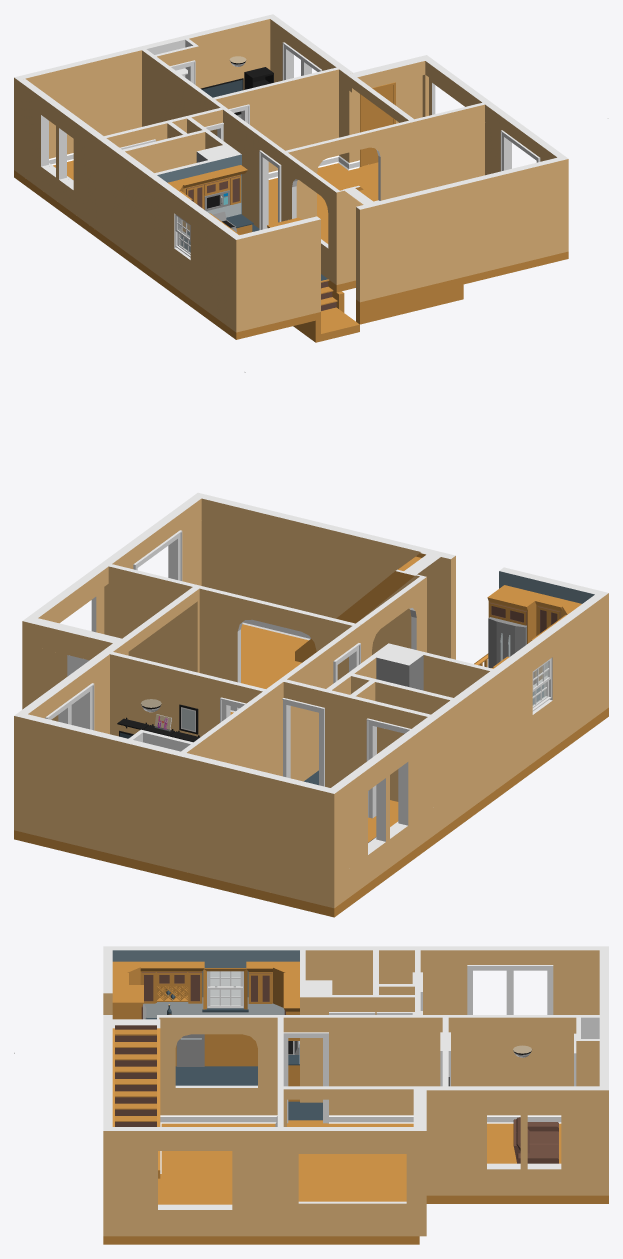
The model's file is house.glb.
3 renders of one model, top to bottom at view 1: azimuth 30°, elevation 25°; view 2: azimuth 150°, elevation 25°; view 3: azimuth 270°, elevation 25°, orthographic. The views are drawn at different scales.
Parts seen in each view (by area): view 1: group441143647, group1521680610, group2033220094, group754051893, group1552020564, group2147124318, group2102152594, group1300204801, group827047037, group2018269649, group1805400969, group953372173 (+21 smaller); view 2: group441143647, group1521680610, group754051893, group1552020564, group2147124318, group2102152594, group2088875034, group953372173, group2018269649, group1649958311, group827047037, group1805400969 (+15 smaller); view 3: group441143647, group211273111, group1552020564, group628219677, group1278426877, group827047037, group953372173, group1761245136, group893102471, group333484390, group1521680610, group321329646 (+30 smaller).
Part boxes in pixels (x1,y1,x2,y2): group441143647: (138,14,568,292); group1521680610: (356,156,568,302); group2033220094: (232,216,320,332); group754051893: (14,47,141,172); group1552020564: (98,138,153,266); group2147124318: (190,205,238,329); group2102152594: (147,173,180,286); group1300204801: (356,277,463,324); group827047037: (18,79,47,166); group2018269649: (18,150,98,231); group1805400969: (122,130,205,172); group953372173: (73,119,105,208); group441143647: (14,562,361,879); group1521680610: (193,492,455,659); group754051893: (181,753,339,908); group1552020564: (431,671,498,831); group2147124318: (544,594,603,748); group2102152594: (491,647,532,787); group2088875034: (323,689,376,817); group953372173: (399,715,439,825); group2018269649: (339,803,439,904); group1649958311: (181,816,439,917); group827047037: (331,767,367,875); group1805400969: (351,674,453,801); group441143647: (103,1015,608,1244); group211273111: (112,1019,160,1178); group1552020564: (305,946,415,994); group628219677: (112,1127,277,1150); group1278426877: (160,1085,277,1115); group827047037: (547,946,599,1014); group953372173: (416,946,472,1014); group1761245136: (232,1151,277,1209); group893102471: (112,1151,157,1209); group333484390: (426,1086,448,1195); group1521680610: (103,1015,112,1236); group321329646: (175,1066,299,1120).
Size of the model in its own units: 3.77 by 2.07 by 5.12.
